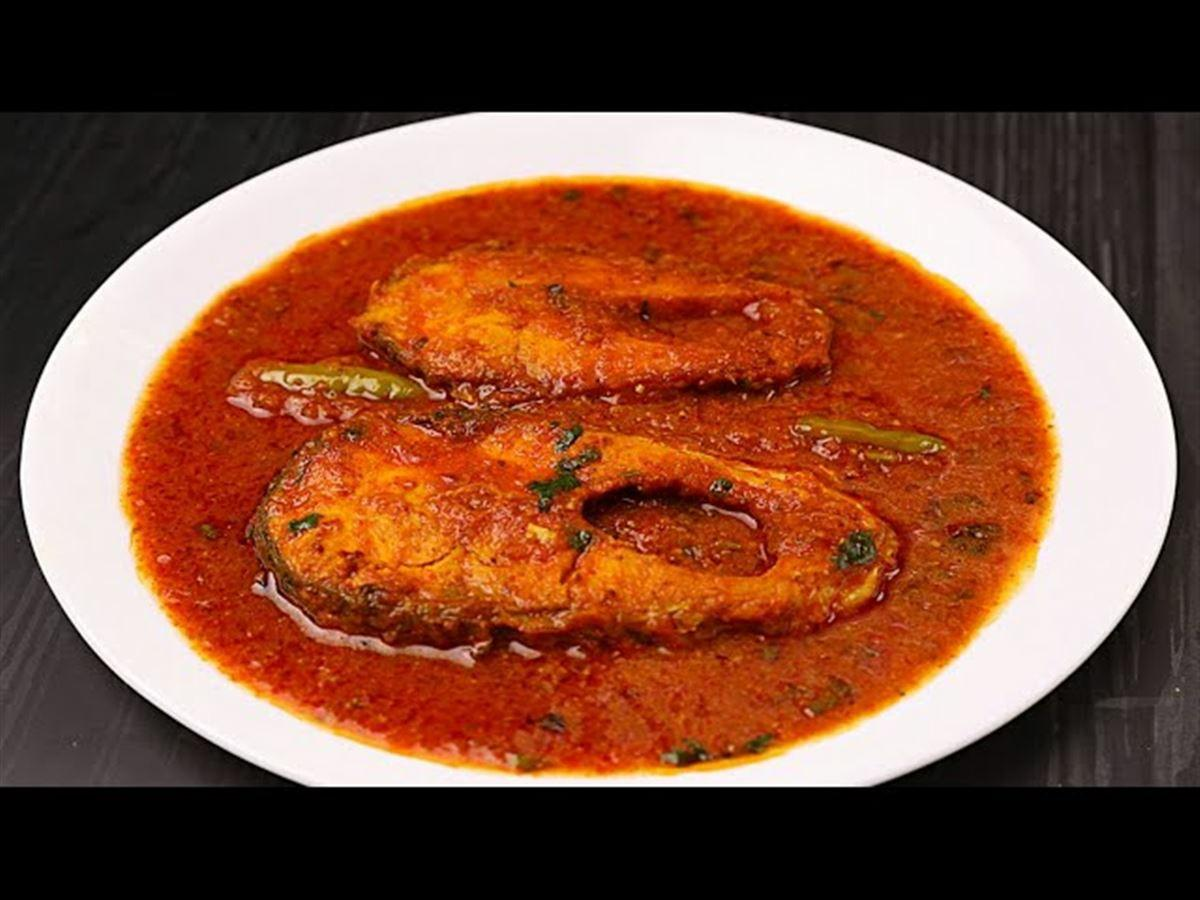FishCurry: (121, 183, 1046, 772)
